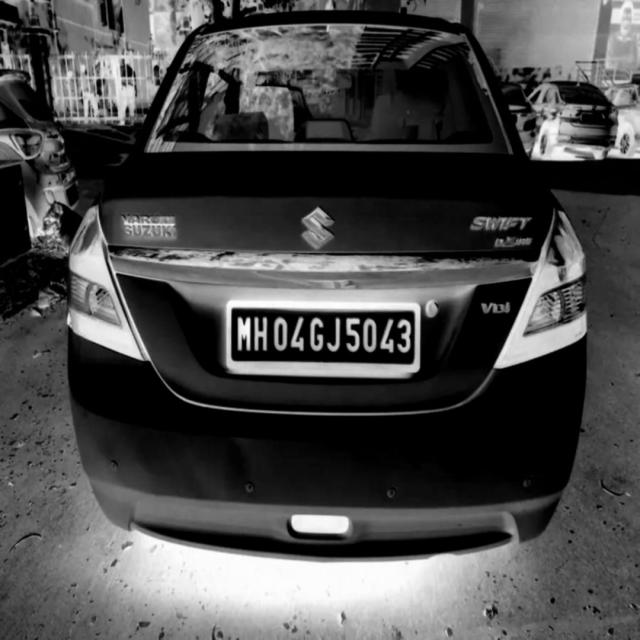Non_registered: (225, 302, 418, 370)
